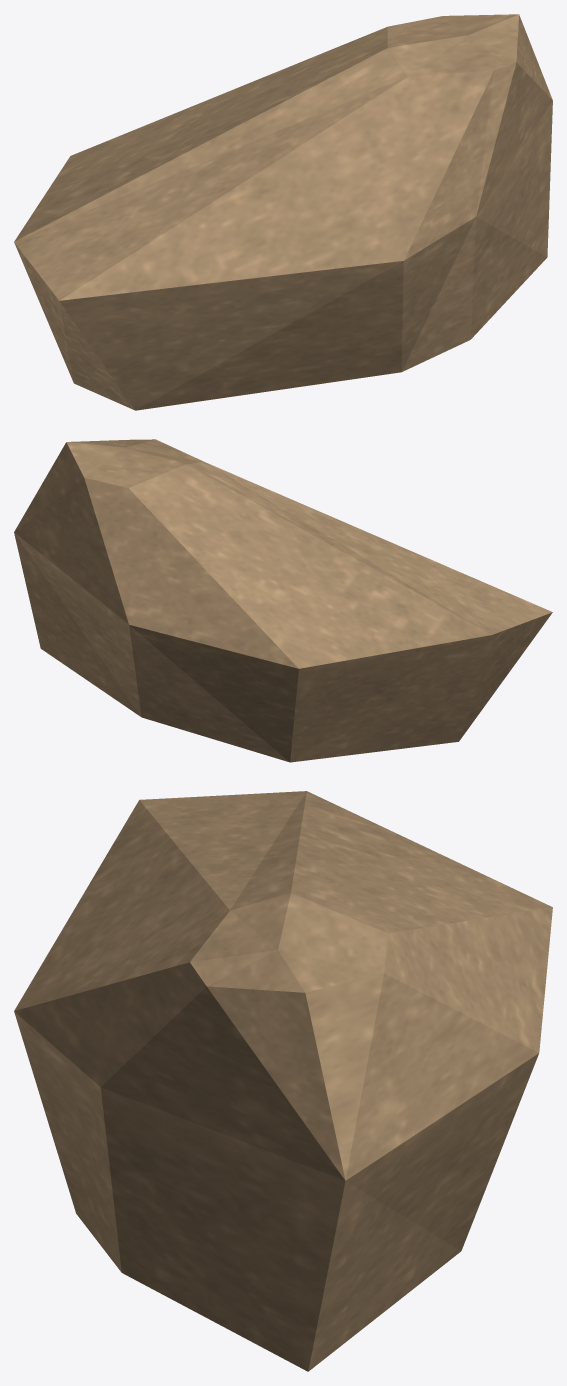
Rendered from boulder_wind_sculpted_LOD1.glb.
The picture shows the model from 3 angles, top to bottom: view 1: azimuth 30°, elevation 25°; view 2: azimuth 150°, elevation 25°; view 3: azimuth 270°, elevation 25°; orthographic projection. The views are drawn at different scales.
Visible parts, largest first — view 1: boulder_wind_sculpted_LOD1; view 2: boulder_wind_sculpted_LOD1; view 3: boulder_wind_sculpted_LOD1.
Boxes of the visible parts, x1,y1,x2,y2 form: boulder_wind_sculpted_LOD1: (14, 14, 552, 410); boulder_wind_sculpted_LOD1: (14, 439, 552, 762); boulder_wind_sculpted_LOD1: (14, 791, 552, 1371).
Bounding box in the file's own units: 2.84 × 1.22 × 1.64.
Materials: 1 (1 with a texture image).
